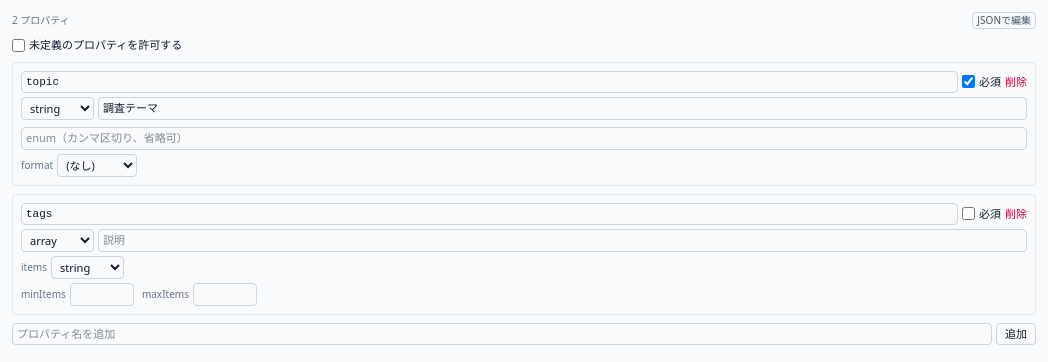
it: SchemaAuthoringForm › switches to raw JSON editing
The image size is (1048, 362).
Click the button with test id "s4-toggle-json": coordinates (1004, 20) left=972, top=12, right=1036, bottom=29
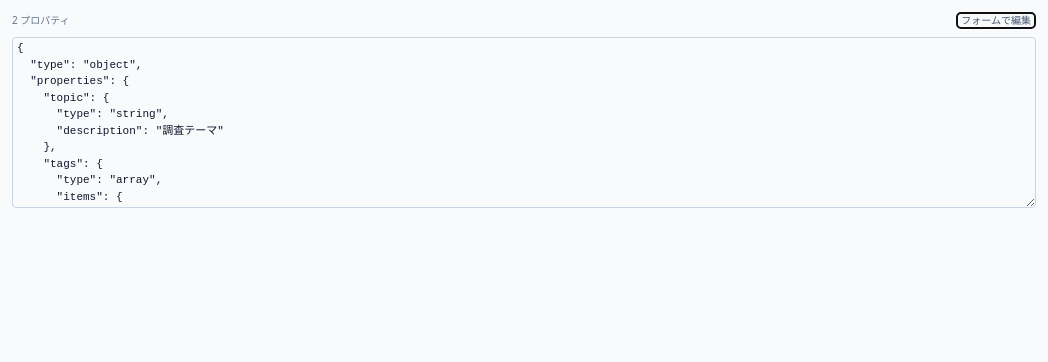
Result: the text box with test id "s4-json" is shown at left=12, top=37, right=1036, bottom=208
